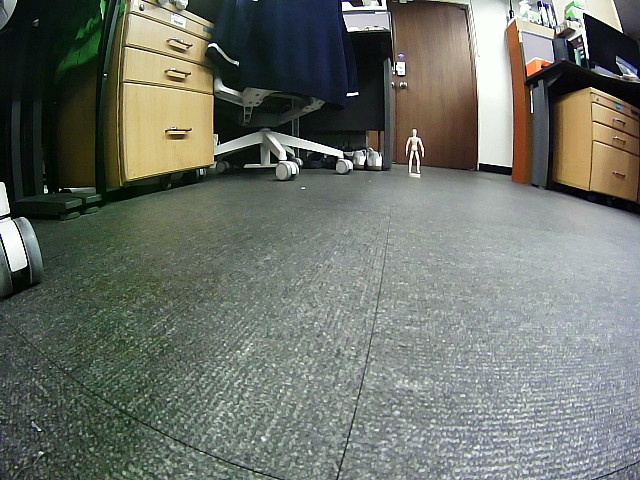person: (405, 129, 425, 173)
